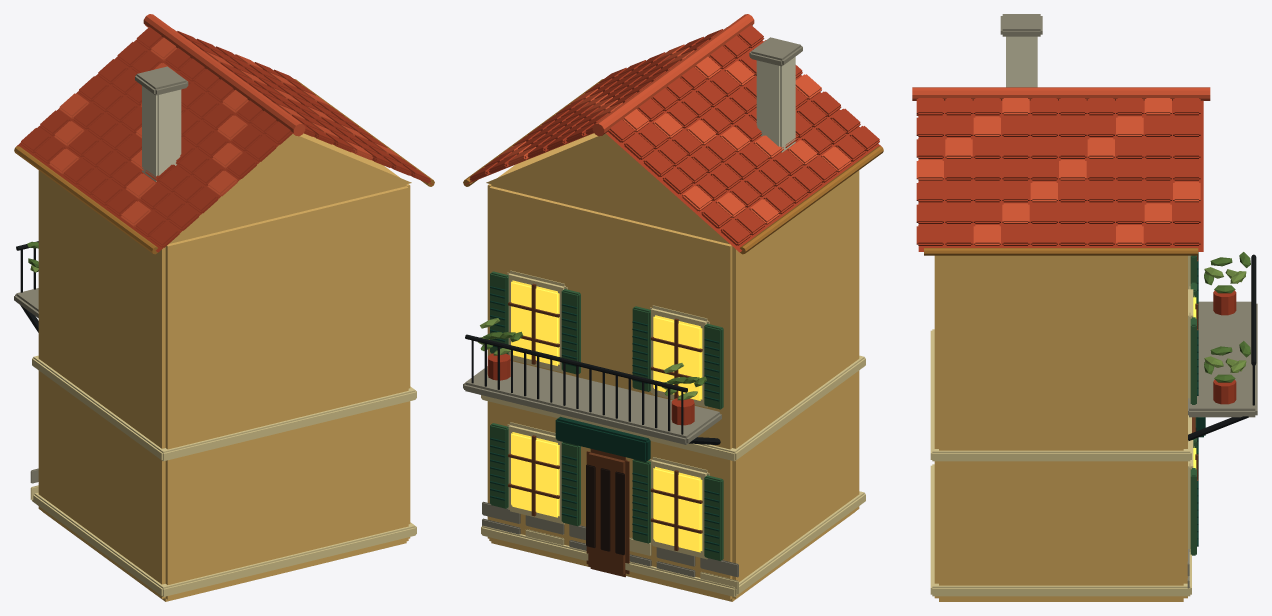
File: townhouse_2.glb
The picture shows the model from 3 angles, left to right: view 1: azimuth 30°, elevation 25°; view 2: azimuth 150°, elevation 25°; view 3: azimuth 270°, elevation 25°; orthographic projection.
Parts seen in each view (by area): view 1: Seaside townhouse.002Mesh; view 2: Seaside townhouse.002Mesh; view 3: Seaside townhouse.002Mesh.
Boxes of the visible parts, x1=… form: Seaside townhouse.002Mesh: x1=14, y1=14, x2=434, y2=601; Seaside townhouse.002Mesh: x1=463, y1=14, x2=883, y2=601; Seaside townhouse.002Mesh: x1=912, y1=14, x2=1257, y2=601.
Size of the model in its own units: 6.15 by 10.08 by 6.55.
